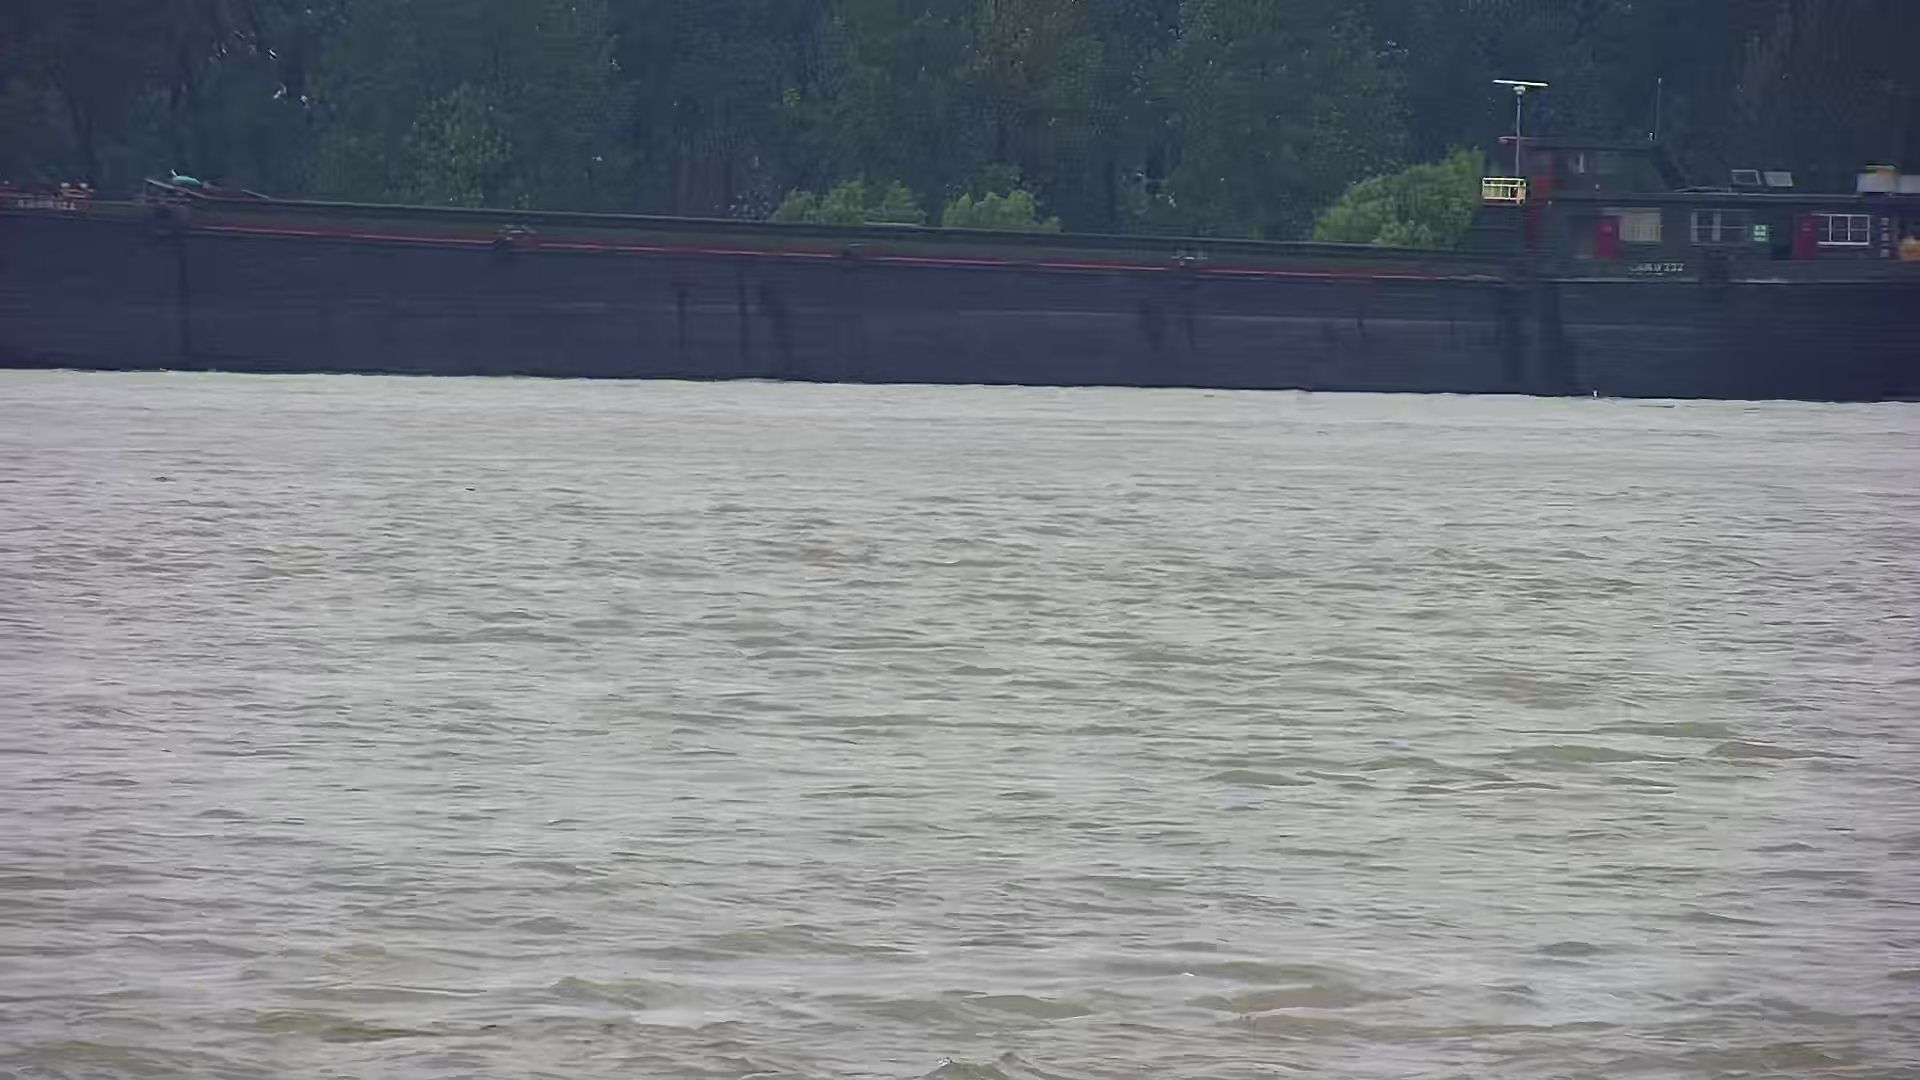ship: (3, 67, 1920, 415)
